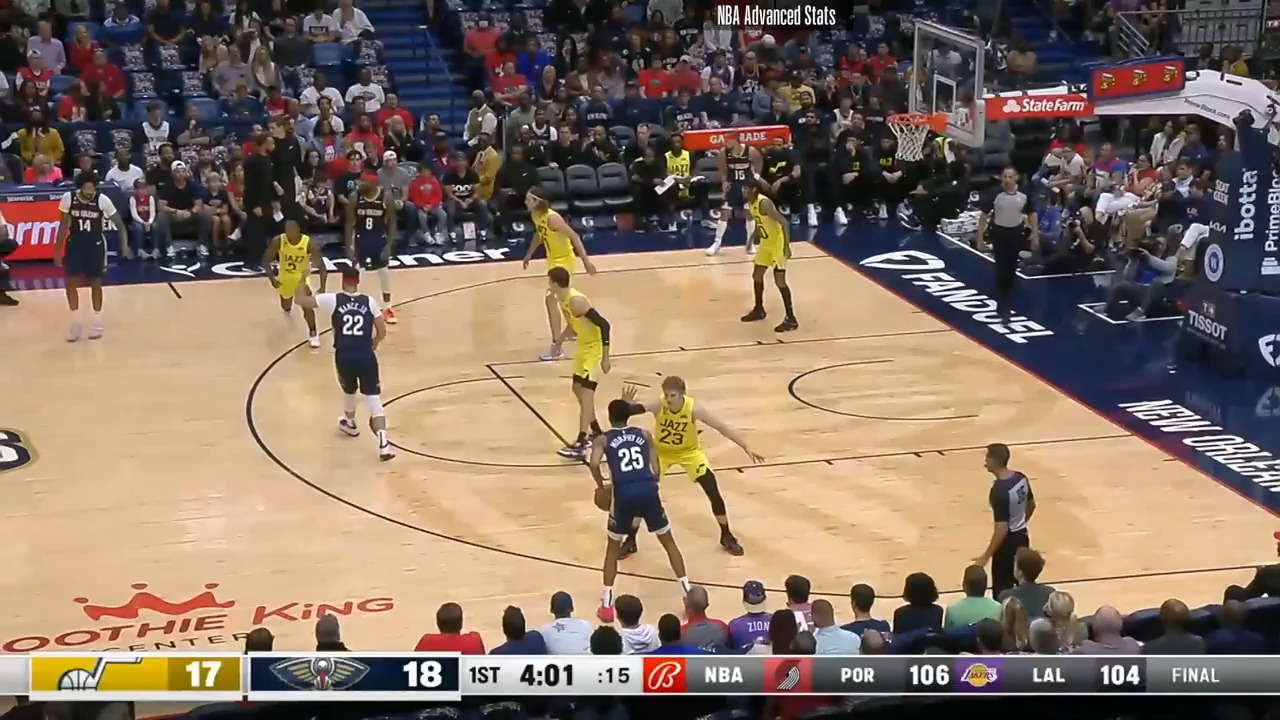net: (888, 106, 951, 165)
player: (621, 373, 755, 561), (584, 391, 691, 615), (295, 256, 402, 462), (537, 269, 612, 462), (47, 168, 122, 343), (523, 192, 601, 355), (739, 180, 798, 335), (346, 168, 404, 323), (704, 134, 767, 265), (266, 216, 326, 353)
referee: (975, 439, 1039, 589), (974, 172, 1031, 333)
